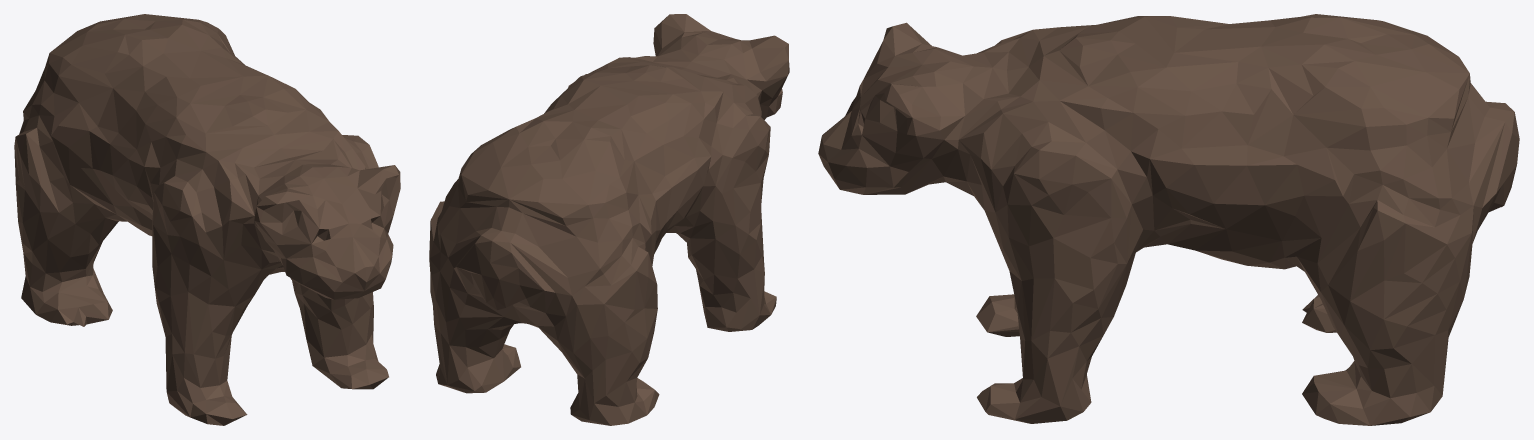
Rendered from Bear1.FBX.
The picture shows the model from 3 angles, left to right: view 1: azimuth 30°, elevation 25°; view 2: azimuth 150°, elevation 25°; view 3: azimuth 270°, elevation 25°; orthographic projection. The views are drawn at different scales.
Parts seen in each view (by area): view 1: Bear_finished:Group35593; view 2: Bear_finished:Group35593; view 3: Bear_finished:Group35593.
Part boxes in pixels (x1,y1,x2,y2): Bear_finished:Group35593: [14, 14, 400, 425]; Bear_finished:Group35593: [429, 14, 789, 425]; Bear_finished:Group35593: [818, 14, 1519, 425].
Bounding box in the file's own units: 8.96 × 10.4 × 19.49.
